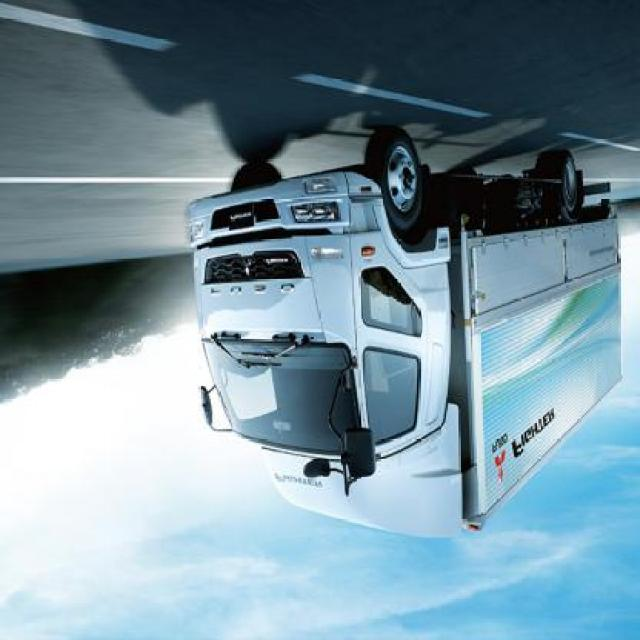truck: (183, 126, 620, 543)
